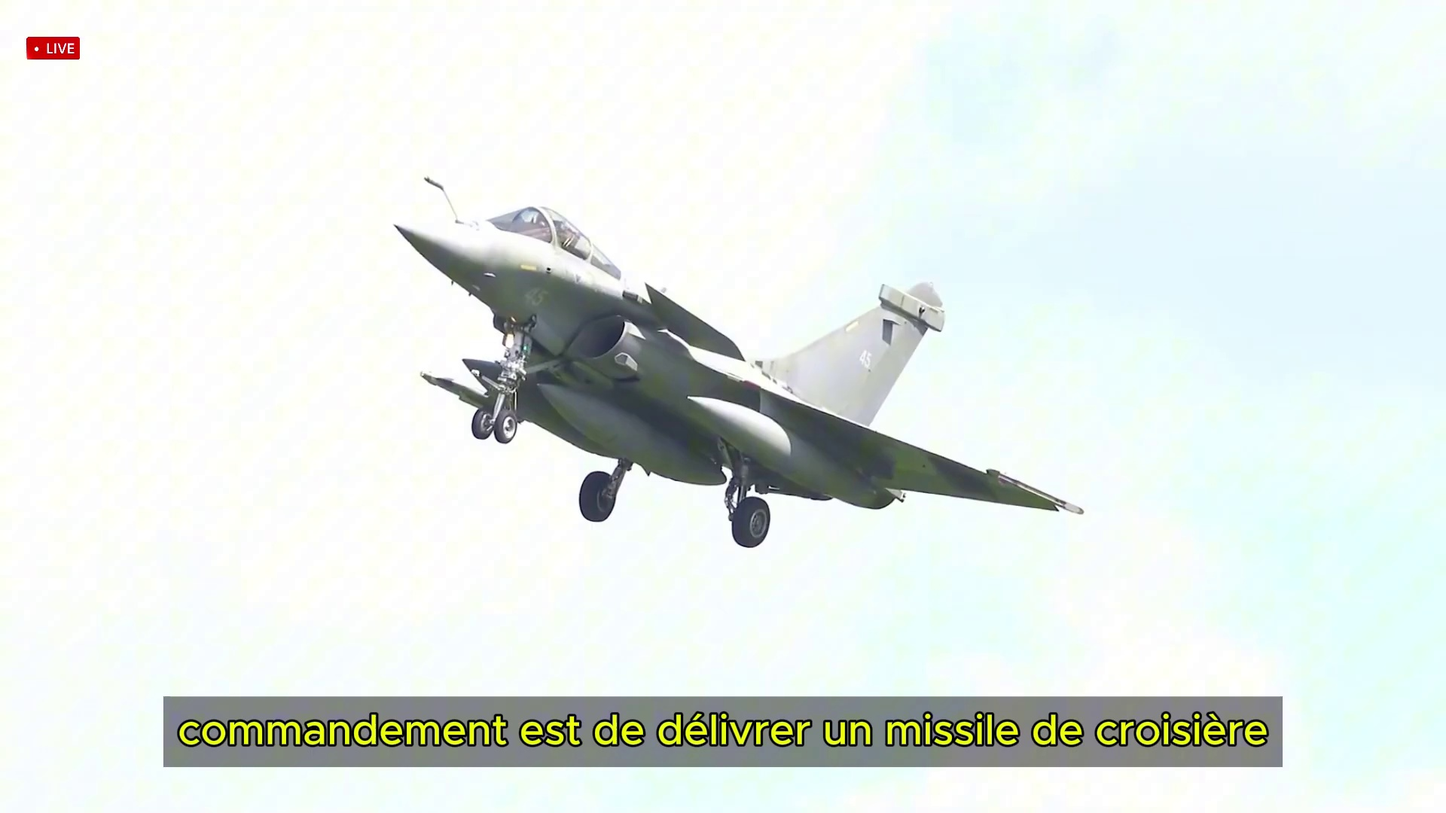Rafale: (398, 189, 1072, 556)
